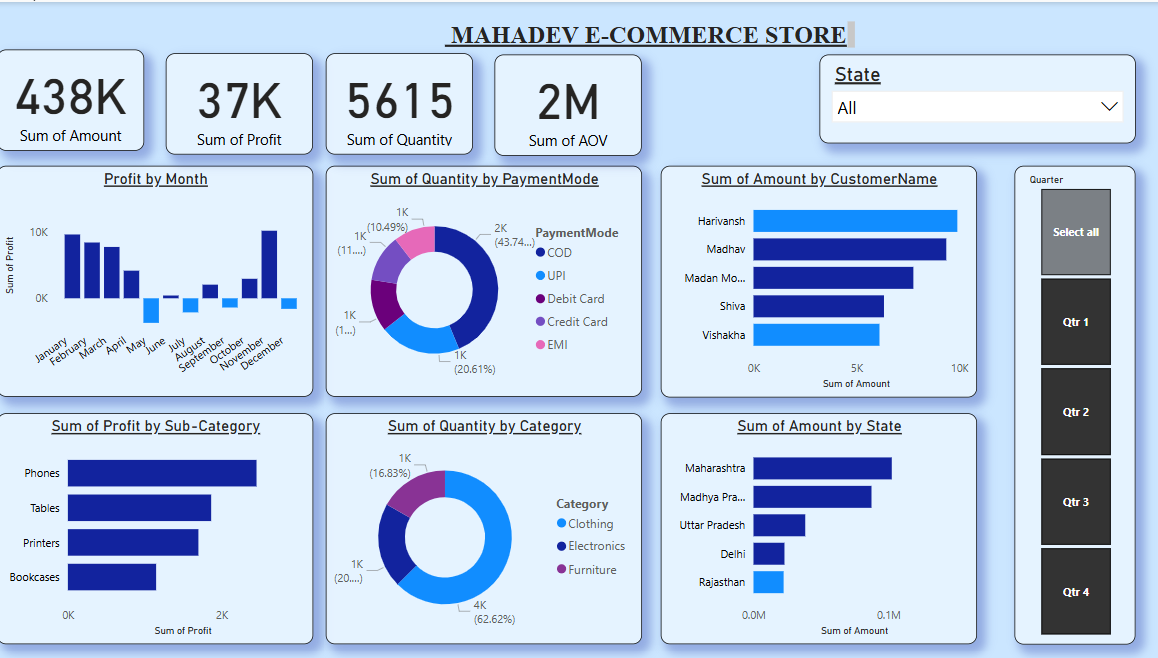

The page's visual inventory and layout, read from the dashboard file:
{"tool":"powerbi","page":{"name":"Page 1","canvas":[1280,720],"ordinal":0},"visuals":[{"type":"columnChart","title":"Profit by Month","fields":{"Y":["Details.Profit"],"Category":["Orders.Order Date.Variation.Date Hierarchy.Month"]},"box":[0,179.8,347.2,253.9],"z":0},{"type":"textbox","box":[485.8,16.5,461.1,39.8],"z":1000},{"type":"clusteredBarChart","fields":{"Category":["Details.Sub-Category"],"Y":["Details.Profit"]},"box":[0,451.5,347.2,253.9],"z":2000},{"type":"donutChart","fields":{"Category":["Details.Category"],"Y":["Details.Quantity"]},"box":[360.9,451.5,347.2,253.9],"z":3000},{"type":"donutChart","fields":{"Category":["Details.PaymentMode"],"Y":["Details.Quantity"]},"box":[360.9,179.8,347.2,253.9],"z":4000},{"type":"clusteredBarChart","fields":{"Category":["Orders.State"],"Y":["Details.Amount"]},"box":[728.6,450.9,347.2,253.9],"z":5000},{"type":"clusteredBarChart","fields":{"Category":["Orders.CustomerName"],"Y":["Details.Amount"]},"box":[729,179.9,347,254],"z":5001},{"type":"card","fields":{"Values":["Details.Amount"]},"box":[0,52.1,161.9,111.1],"z":5002},{"type":"card","fields":{"Values":["Details.Profit"]},"box":[185.2,56.3,161.9,111.1],"z":5003},{"type":"card","fields":{"Values":["Details.Quantity"]},"box":[360.9,56.3,161.9,111.1],"z":5004},{"type":"card","fields":{"Values":["Details.AOV"]},"box":[546.1,57.6,161.9,111.1],"z":5005},{"type":"slicer","fields":{"Values":["Orders.Order Date.Variation.Date Hierarchy.Quarter"]},"box":[1117,179.8,133.1,525.6],"z":5006},{"type":"slicer","fields":{"Values":["Orders.State"]},"box":[902.9,57.6,347.2,97.4],"z":5007}]}

Visuals, with their boxes in screenshot pixels (x1, y1, x2, y2), scaled from the page's 1280x720 canvas onto the 1158x658 screenshot:
"Profit by Month" columnChart: l=0, t=164, r=314, b=396
textbox: l=439, t=15, r=857, b=51
clusteredBarChart - Details.Sub-Category x Details.Profit: l=0, t=413, r=314, b=645
donutChart - Details.Category x Details.Quantity: l=327, t=413, r=641, b=645
donutChart - Details.PaymentMode x Details.Quantity: l=327, t=164, r=641, b=396
clusteredBarChart - Orders.State x Details.Amount: l=659, t=412, r=973, b=644
clusteredBarChart - Orders.CustomerName x Details.Amount: l=660, t=164, r=973, b=397
card - Details.Amount: l=0, t=48, r=146, b=149
card - Details.Profit: l=168, t=51, r=314, b=153
card - Details.Quantity: l=327, t=51, r=473, b=153
card - Details.AOV: l=494, t=53, r=641, b=154
slicer - Orders.Order Date.Variation.Date Hierarchy.Quarter: l=1011, t=164, r=1131, b=645
slicer - Orders.State: l=817, t=53, r=1131, b=142
